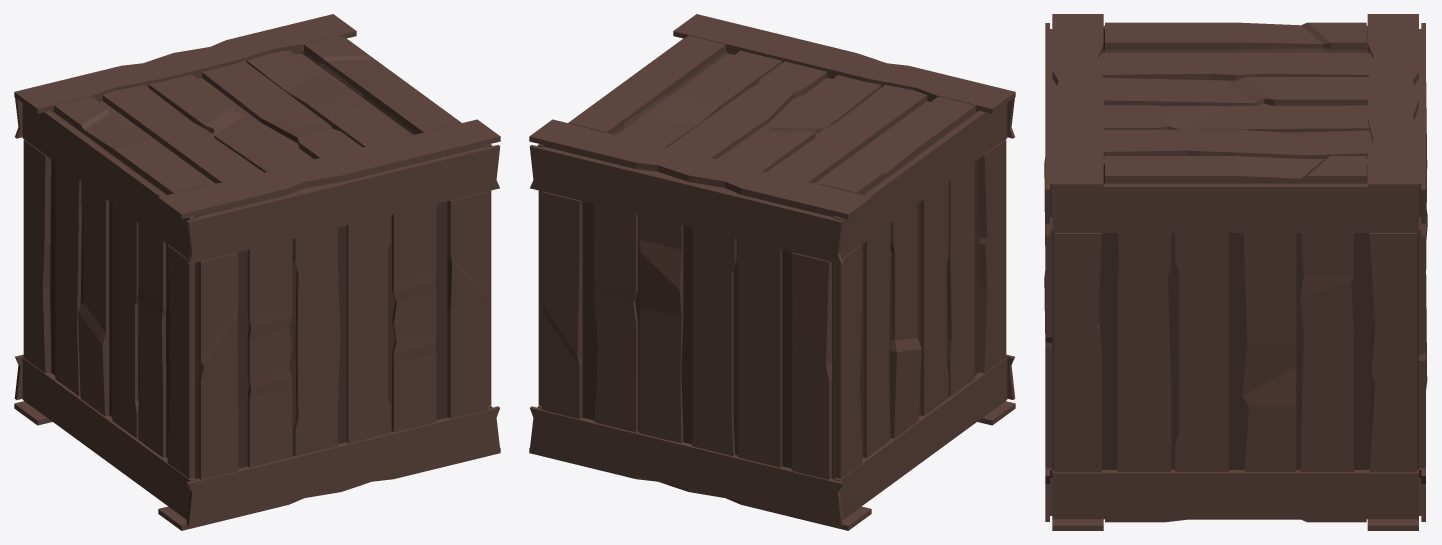
The model's file is crate.glb.
3 renders of one model, left to right at view 1: azimuth 30°, elevation 25°; view 2: azimuth 150°, elevation 25°; view 3: azimuth 270°, elevation 25°, orthographic. The views are drawn at different scales.
Visible parts, largest first — view 1: Crate; view 2: Crate; view 3: Crate.
Part boxes in pixels (x1,y1,x2,y2): Crate: [14, 14, 500, 530]; Crate: [529, 14, 1015, 530]; Crate: [1044, 14, 1427, 530].
Bounding box in the file's own units: 0.55 × 0.5212 × 0.5225.
